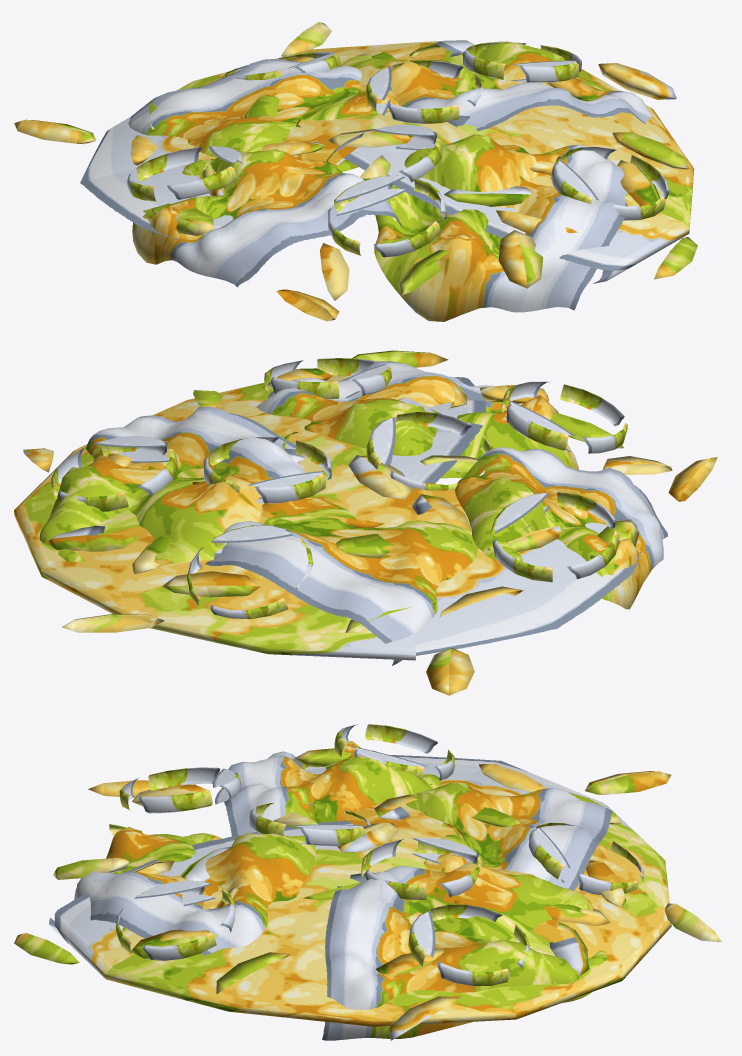
The model's file is Web_FriedRice_LettuceCarrot.fbx.
3 views of the same model, one above another, from view 1: azimuth 30°, elevation 25°; view 2: azimuth 150°, elevation 25°; view 3: azimuth 270°, elevation 25° (orthographic). The views are drawn at different scales.
Parts seen in each view (by area): view 1: 胡萝卜蛋炒饭; view 2: 胡萝卜蛋炒饭; view 3: 胡萝卜蛋炒饭.
Part boxes in pixels (bbox=[...]): 胡萝卜蛋炒饭: bbox=[14, 22, 697, 321]; 胡萝卜蛋炒饭: bbox=[14, 350, 717, 695]; 胡萝卜蛋炒饭: bbox=[14, 724, 721, 1040].
Size of the model in its own units: 81.93 by 16.8 by 86.55.
1 material, 1 textured.
